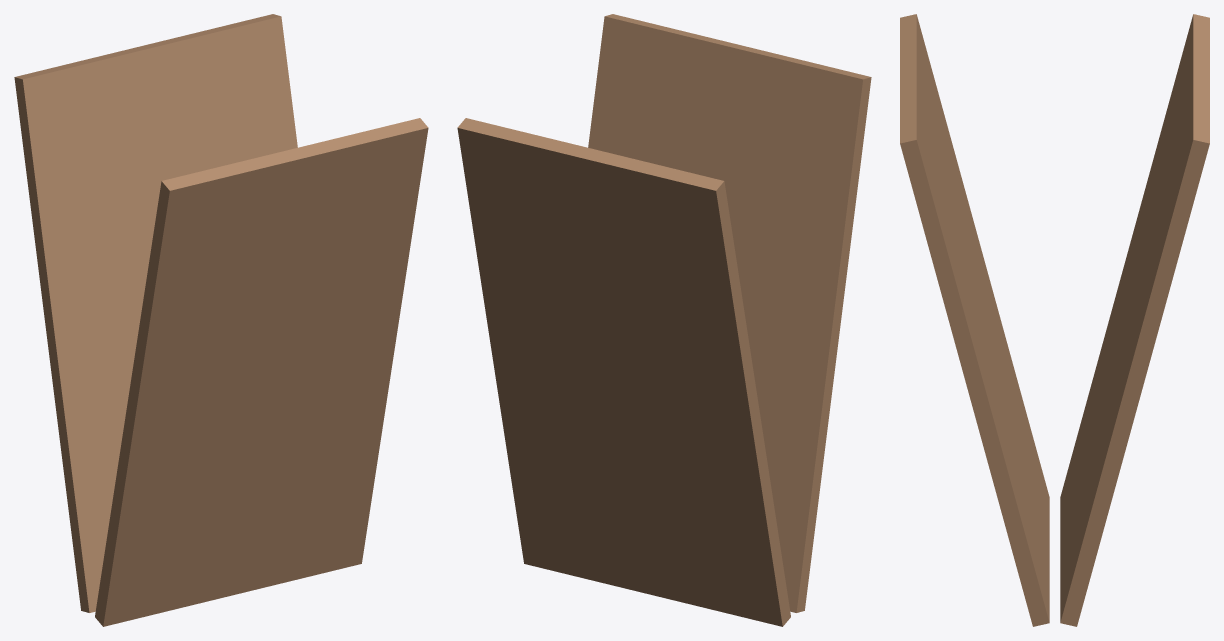
The model's file is SM_Prop_Chalkboard.fbx.
3 renders of one model, left to right at view 1: azimuth 30°, elevation 25°; view 2: azimuth 150°, elevation 25°; view 3: azimuth 270°, elevation 25°, orthographic.
Visible parts, largest first — view 1: PanelF, PanelB; view 2: PanelB, PanelF; view 3: PanelB, PanelF.
Boxes of the visible parts, x1,y1,x2,y2 form: PanelF: (95, 118, 428, 626); PanelB: (14, 14, 297, 612); PanelB: (457, 118, 790, 626); PanelF: (588, 14, 871, 612); PanelB: (1060, 14, 1209, 626); PanelF: (900, 14, 1049, 626).
Bounding box in the file's own units: 0.52 × 0.9387 × 0.5414.
